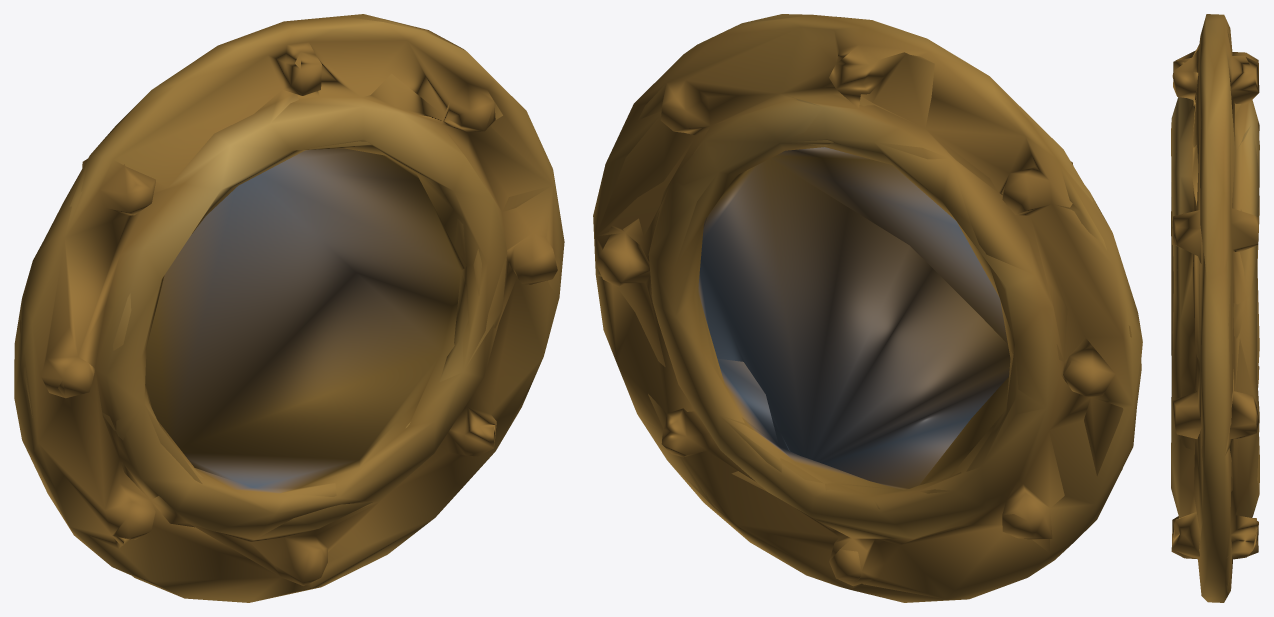
The model's file is gen3d-porthole-lod1.glb.
The picture shows the model from 3 angles, left to right: view 1: azimuth 30°, elevation 25°; view 2: azimuth 150°, elevation 25°; view 3: azimuth 270°, elevation 25°; orthographic projection. The views are drawn at different scales.
Visible parts, largest first — view 1: part_0; view 2: part_0; view 3: part_0.
Boxes of the visible parts, x1,y1,x2,y2 form: part_0: (14,14,564,602); part_0: (593,14,1142,602); part_0: (1171,14,1259,602).
Size of the model in its own units: 0.9954 by 0.9972 by 0.1509.
